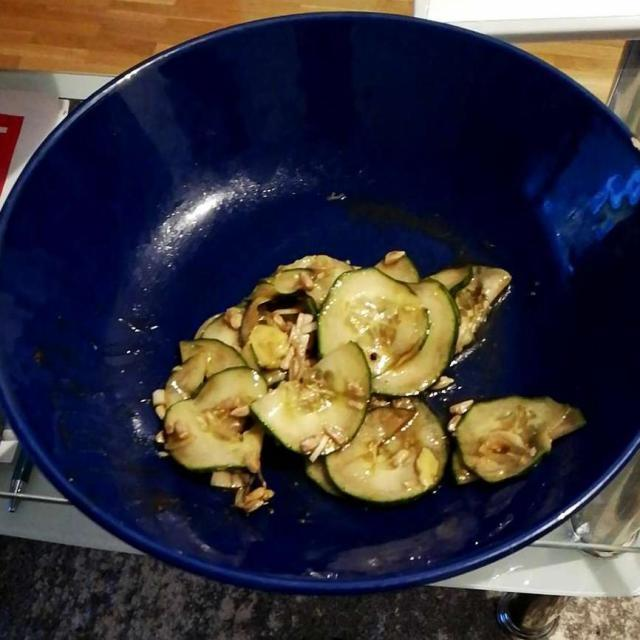cucumber: (163, 260, 582, 507)
salad: (306, 297, 479, 446)
